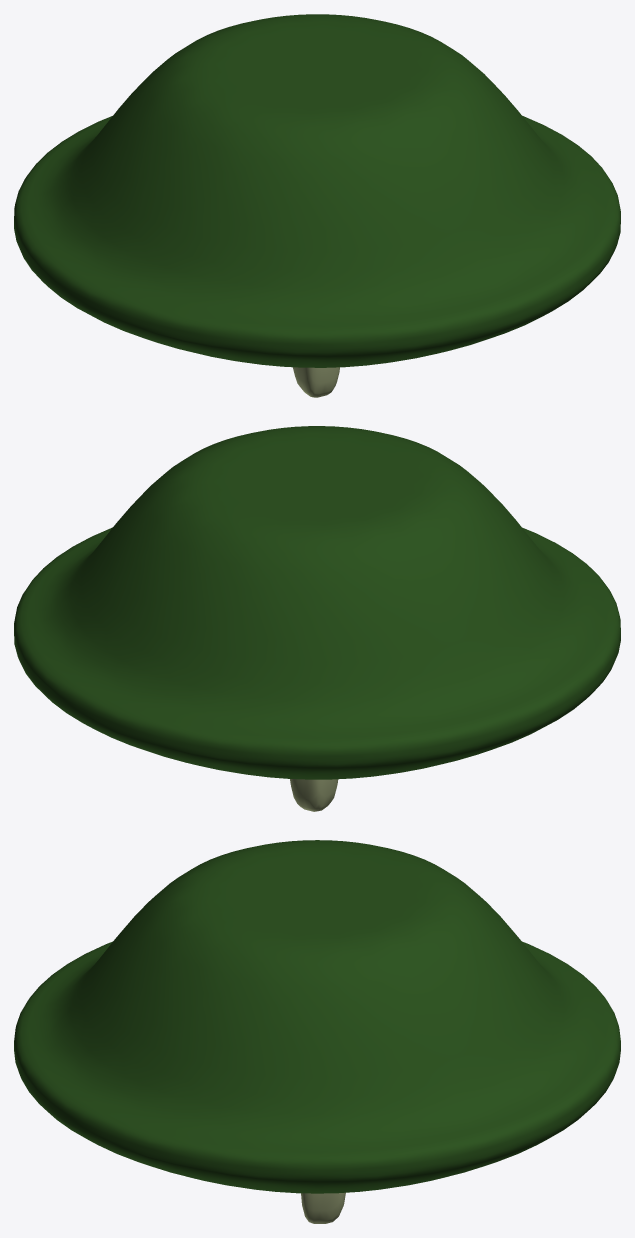
Rendered from Mushrom 7.fbx.
The picture shows the model from 3 angles, top to bottom: view 1: azimuth 30°, elevation 25°; view 2: azimuth 150°, elevation 25°; view 3: azimuth 270°, elevation 25°; orthographic projection.
Visible parts, largest first — view 1: Cylinder, Cube; view 2: Cylinder, Cube; view 3: Cylinder, Cube.
Part boxes in pixels (x1=…): Cylinder: x1=14, y1=14, x2=620, y2=367; Cube: x1=293, y1=367, x2=339, y2=397; Cylinder: x1=14, y1=426, x2=620, y2=779; Cube: x1=290, y1=779, x2=338, y2=811; Cylinder: x1=14, y1=840, x2=620, y2=1193; Cube: x1=301, y1=1192, x2=345, y2=1223.
Bounding box in the file's own units: 410 × 245 × 410.
